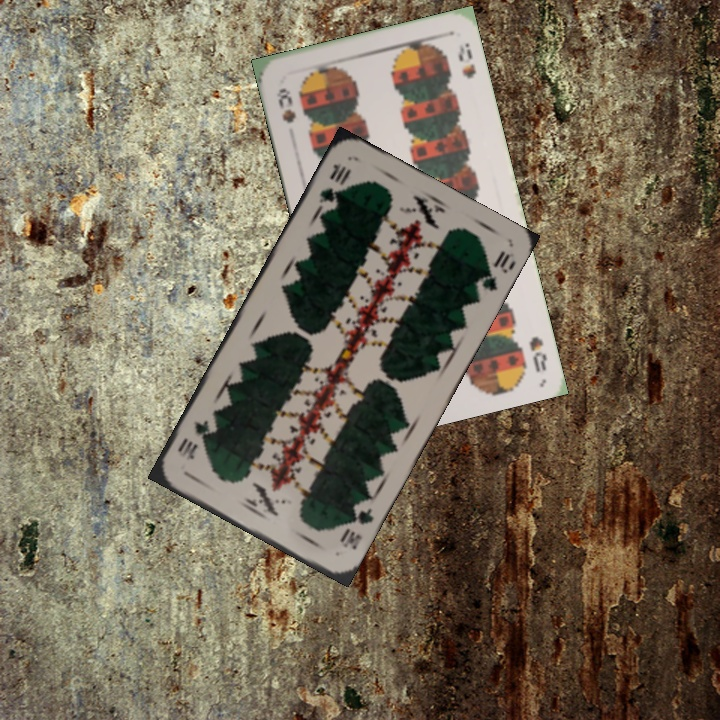G10: (314, 159, 354, 212), (335, 503, 377, 553)
S8: (272, 84, 299, 126), (525, 332, 550, 375)
